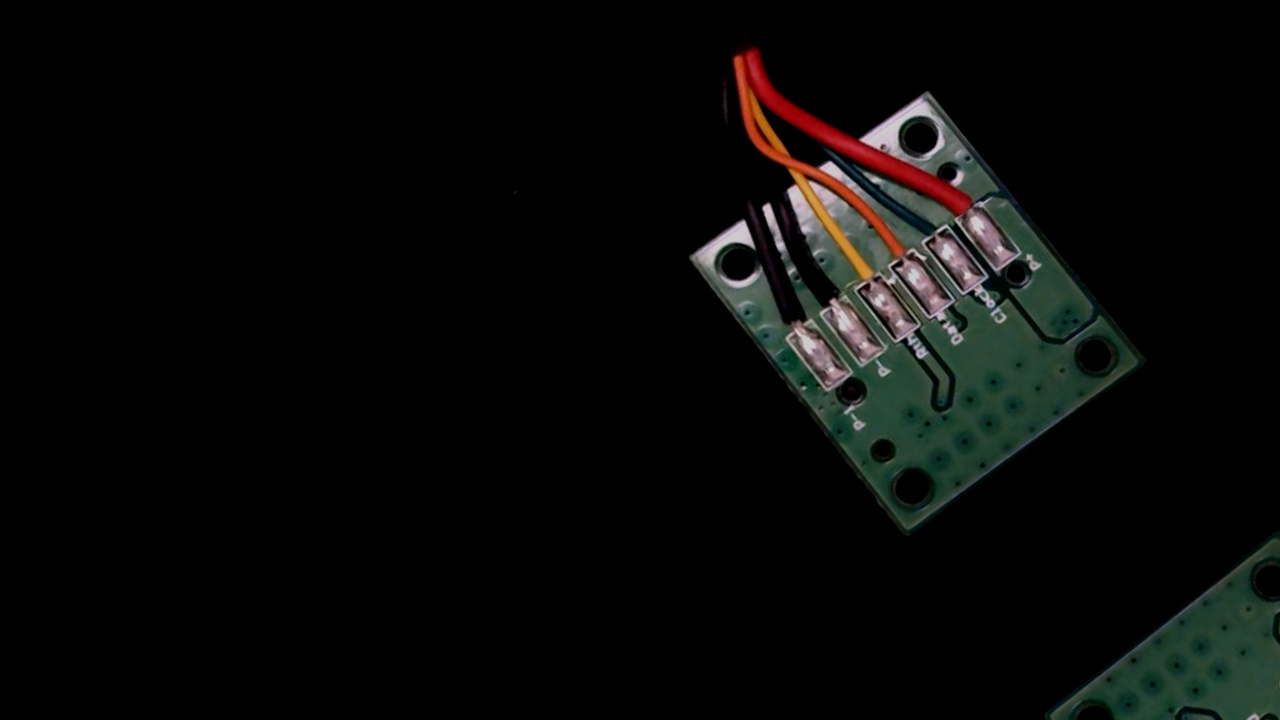Black: (781, 245, 863, 331)
Black1: (757, 284, 826, 355)
Green: (888, 187, 960, 260)
Orange: (860, 211, 927, 280)
Red: (923, 165, 992, 236)
Yellow: (825, 234, 894, 305)
